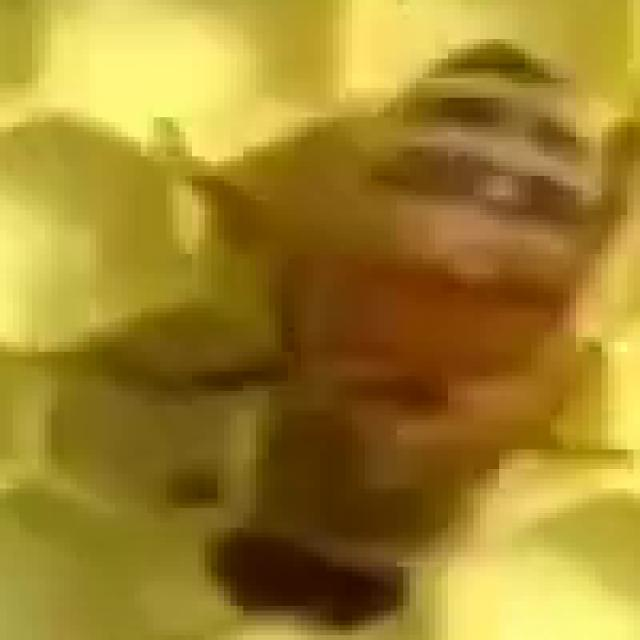honeybee: (214, 41, 627, 608)
